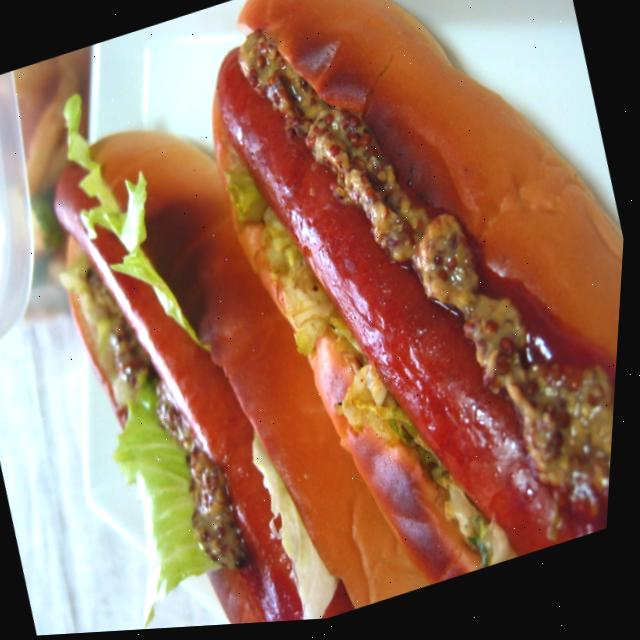汉堡快餐: (137, 0, 640, 632), (0, 6, 479, 639)
